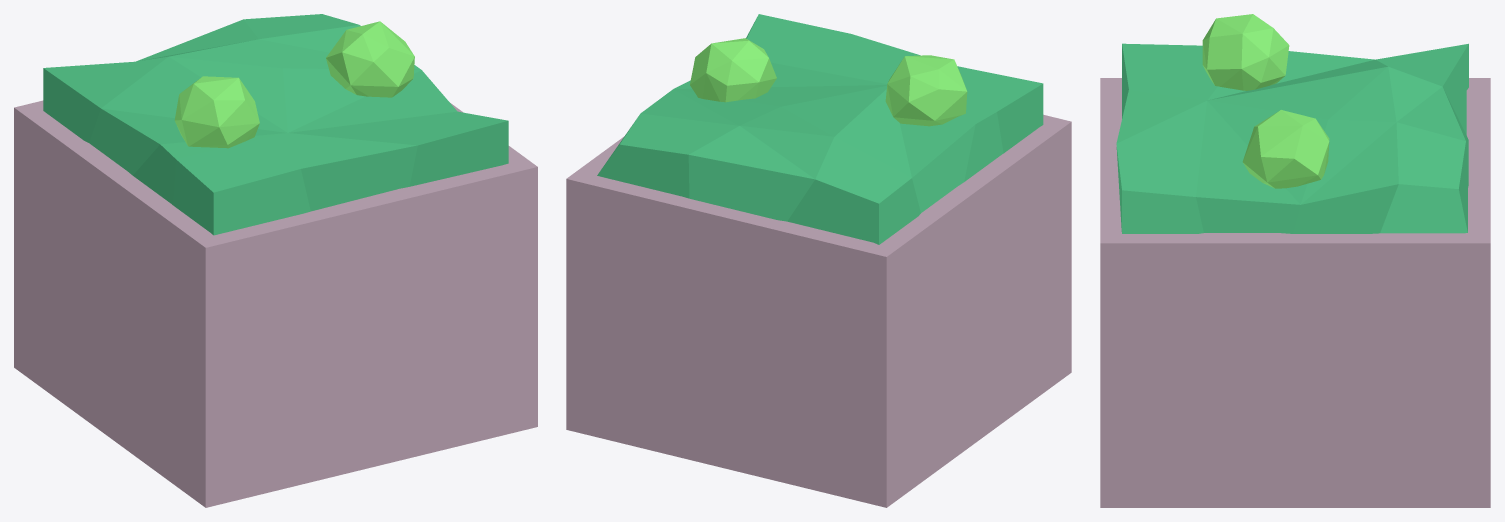
The model's file is block_4.fbx.
The picture shows the model from 3 angles, left to right: view 1: azimuth 30°, elevation 25°; view 2: azimuth 150°, elevation 25°; view 3: azimuth 270°, elevation 25°; orthographic projection. The views are drawn at different scales.
Visible parts, largest first — view 1: block_4; view 2: block_4; view 3: block_4.
Part boxes in pixels (x1,y1,x2,y2): block_4: [14, 14, 537, 507]; block_4: [566, 14, 1071, 507]; block_4: [1100, 14, 1490, 507].
Bounding box in the file's own units: 200 × 204 × 200.
